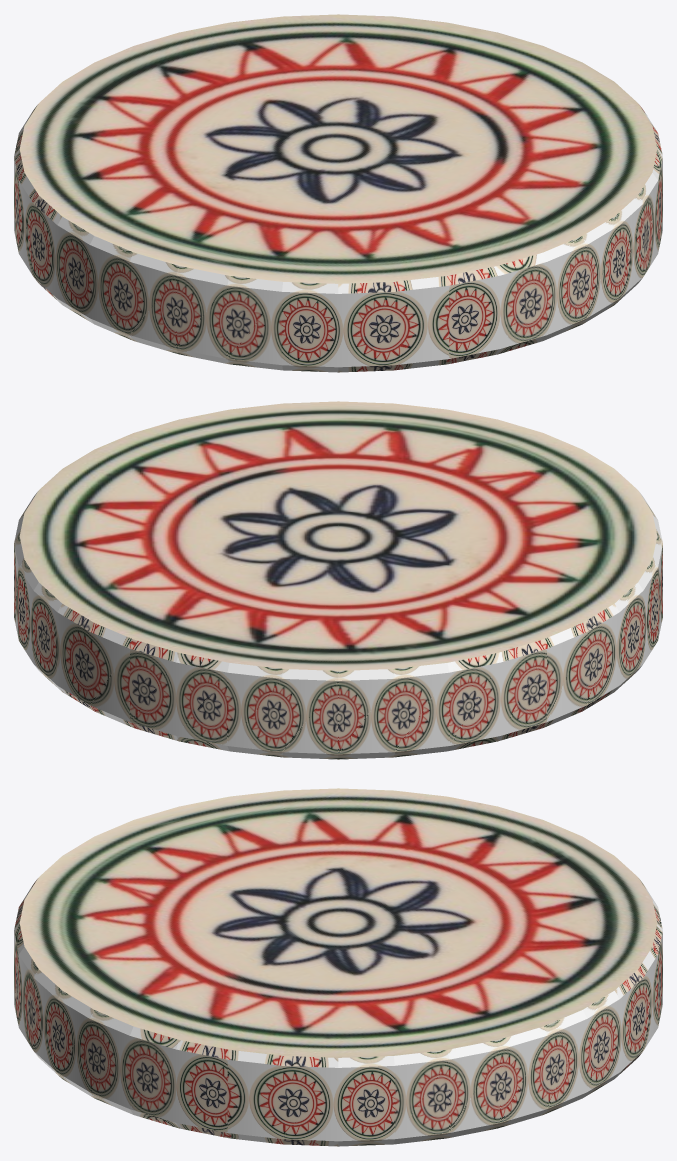
File: main.fbx
3 views of the same model, one above another, from view 1: azimuth 30°, elevation 25°; view 2: azimuth 150°, elevation 25°; view 3: azimuth 270°, elevation 25° (orthographic).
Parts seen in each view (by area): view 1: Cylinder020.001; view 2: Cylinder020.001; view 3: Cylinder020.001.
Part boxes in pixels (x1,y1,x2,y2): Cylinder020.001: (14, 14, 662, 372); Cylinder020.001: (14, 401, 662, 759); Cylinder020.001: (14, 788, 662, 1146).
Size of the model in its own units: 3.81 by 0.5744 by 3.81.
Materials: 2 (2 with a texture image).
